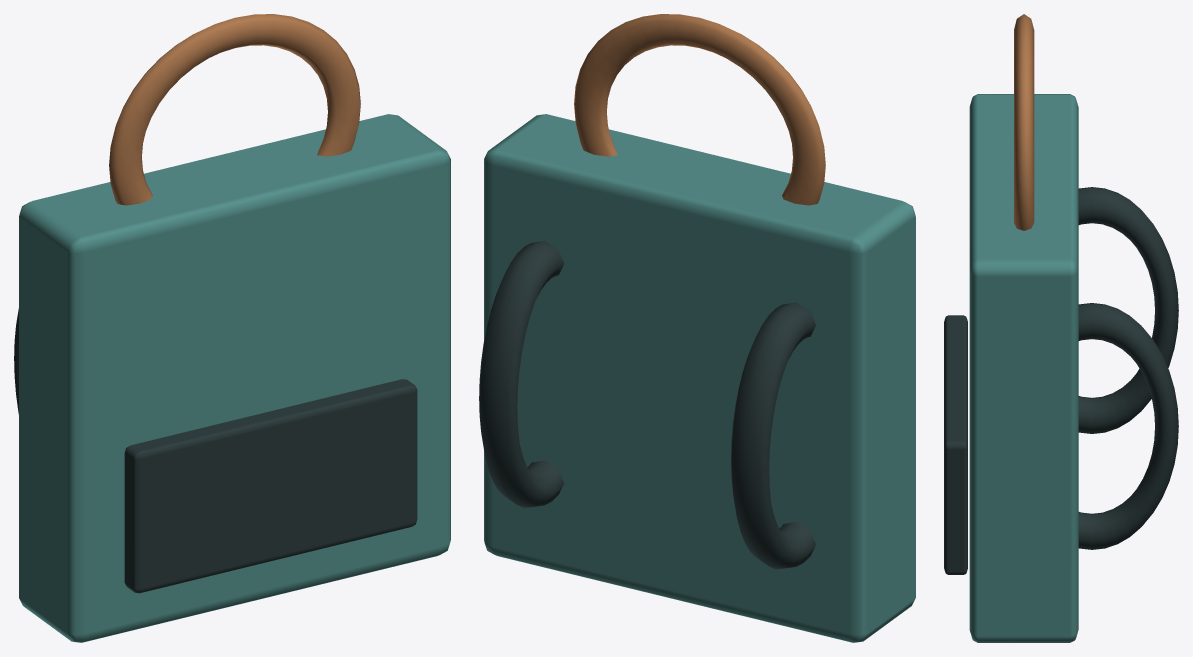
Rendered from wp-sac-a-dos.glb.
3 renders of one model, left to right at view 1: azimuth 30°, elevation 25°; view 2: azimuth 150°, elevation 25°; view 3: azimuth 270°, elevation 25°, orthographic. The views are drawn at different scales.
Visible parts, largest first — view 1: wp-sac-a-dos; view 2: wp-sac-a-dos; view 3: wp-sac-a-dos.
Part boxes in pixels (<box>): wp-sac-a-dos: <box>14,14,450,642</box>; wp-sac-a-dos: <box>479,14,915,642</box>; wp-sac-a-dos: <box>944,14,1178,642</box>.
Bounding box in the file's own units: 0.32 × 0.45 × 0.18.
